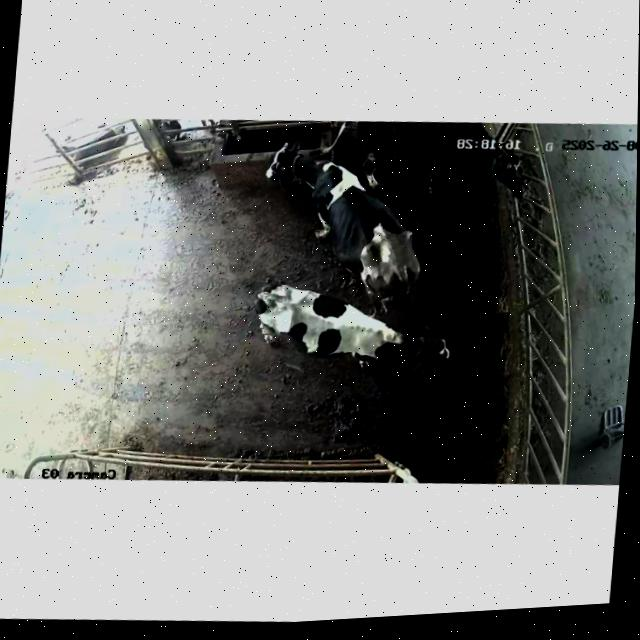stand: (237, 124, 462, 310), (219, 270, 485, 400), (337, 110, 531, 212)
